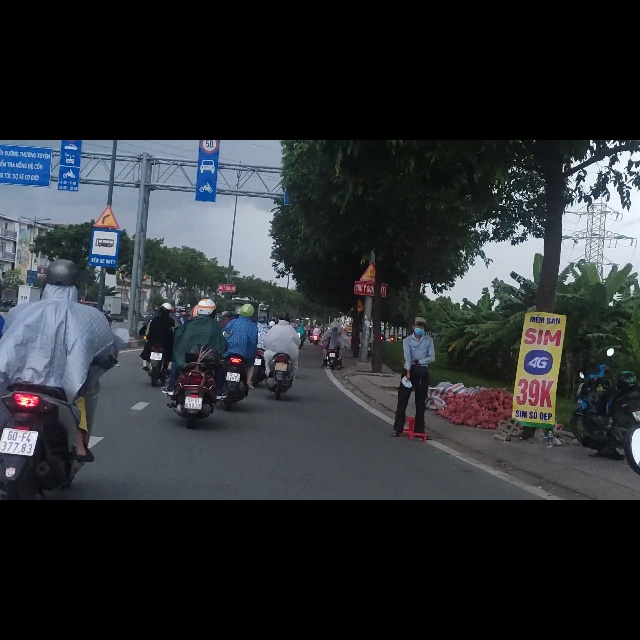bien_nguy_hiem: (89, 158, 120, 225), (93, 115, 120, 157), (200, 1, 219, 24)
